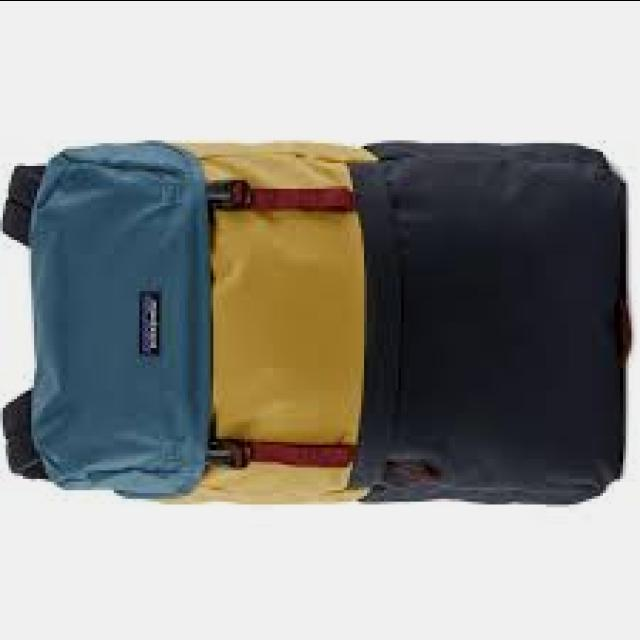backpack: (2, 141, 630, 511)
